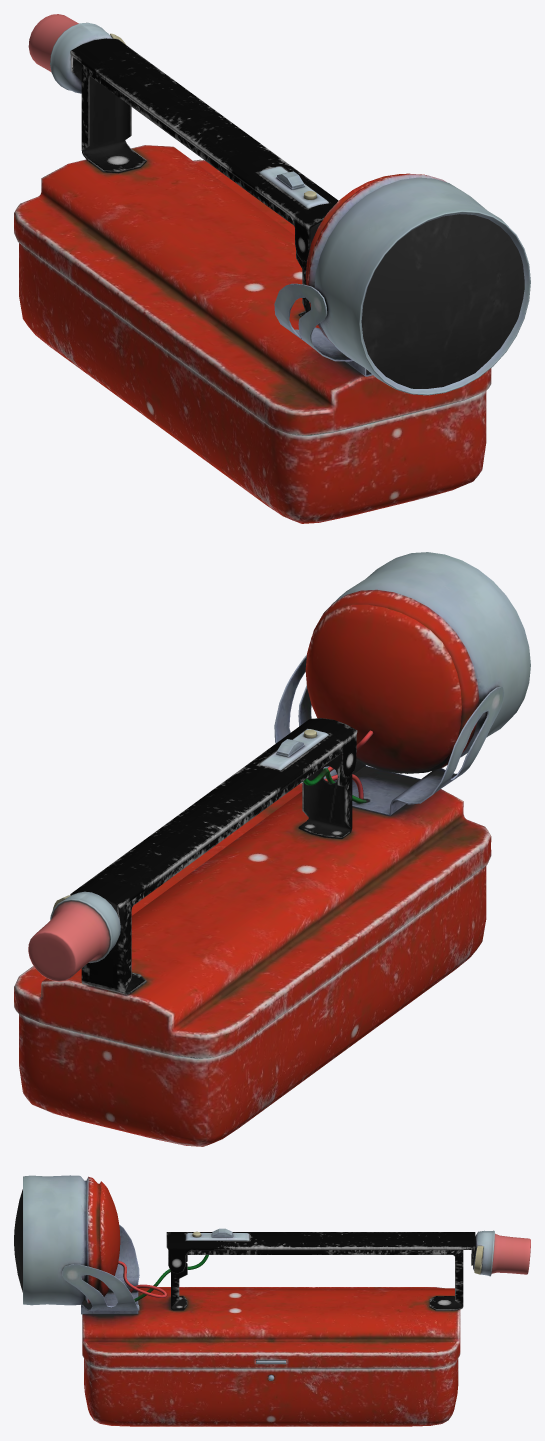
The model's file is vintage_flashlight.glb.
The picture shows the model from 3 angles, top to bottom: view 1: azimuth 30°, elevation 25°; view 2: azimuth 150°, elevation 25°; view 3: azimuth 270°, elevation 25°; orthographic projection. The views are drawn at different scales.
Parts seen in each view (by area): view 1: vintage_flashlight; view 2: vintage_flashlight; view 3: vintage_flashlight.
Part boxes in pixels (x1,y1,x2,y2): vintage_flashlight: (14,14,530,523); vintage_flashlight: (14,552,530,1146); vintage_flashlight: (14,1175,530,1426).
Bounding box in the file's own units: 0.0959 × 0.1443 × 0.3055.
2 materials, 2 textured.
